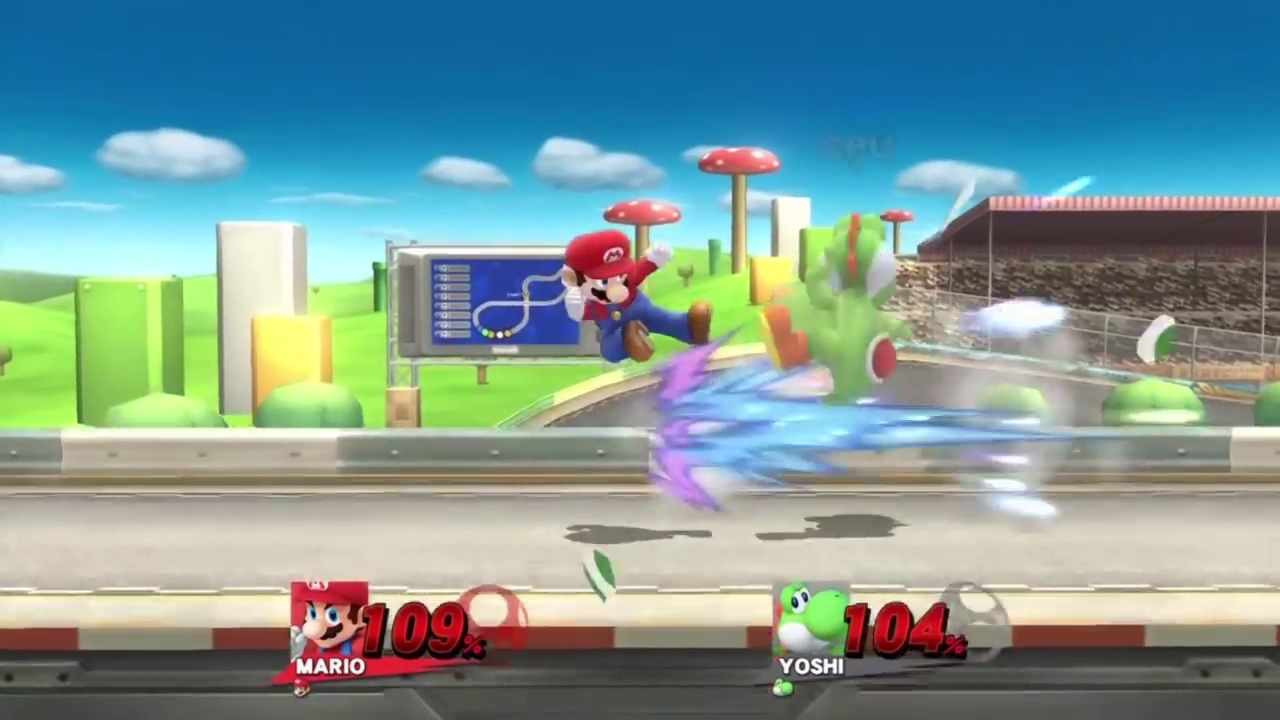Mario: (561, 231, 712, 364)
